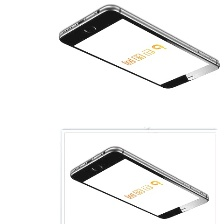phone: (54, 2, 221, 92), (66, 144, 211, 222)
